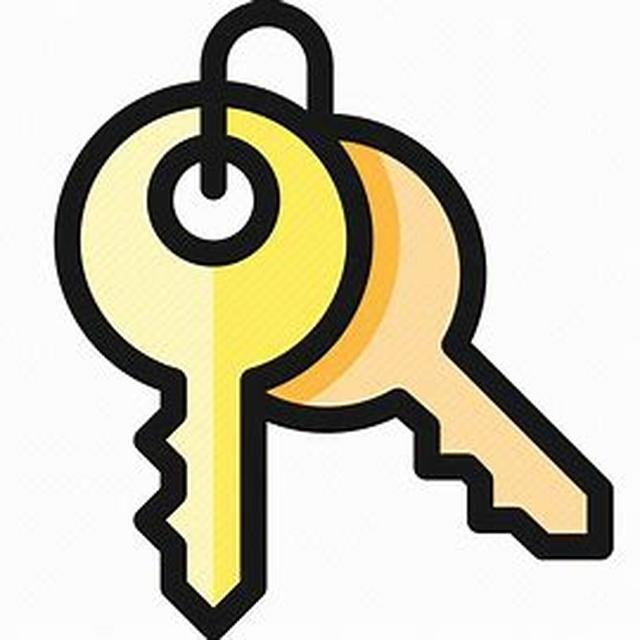key: (72, 51, 602, 624)
